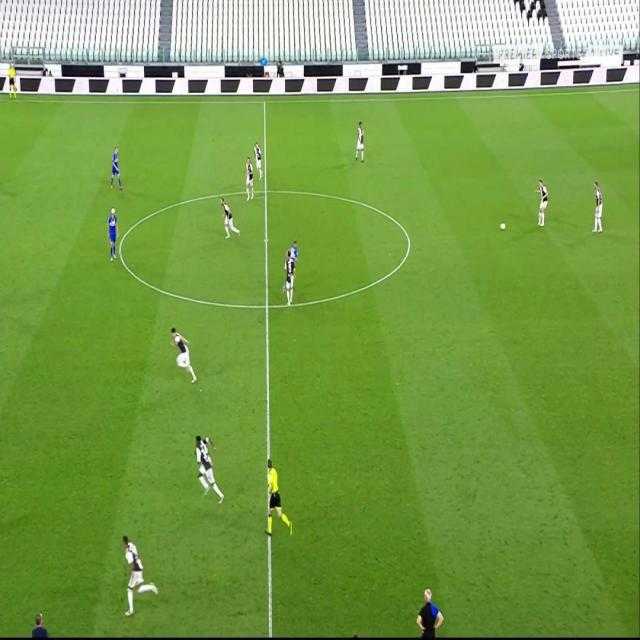ball: (499, 221, 508, 234)
player: (117, 530, 158, 616), (190, 435, 225, 506), (168, 325, 198, 391), (220, 196, 242, 241), (107, 205, 121, 266), (591, 179, 605, 239), (536, 180, 552, 229), (283, 252, 295, 310), (110, 147, 124, 192), (243, 157, 256, 203), (356, 120, 366, 165), (253, 142, 264, 179), (289, 238, 302, 260)
referee: (259, 461, 294, 547), (6, 63, 17, 103)
